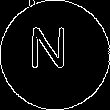N_S: (35, 29, 75, 81)
